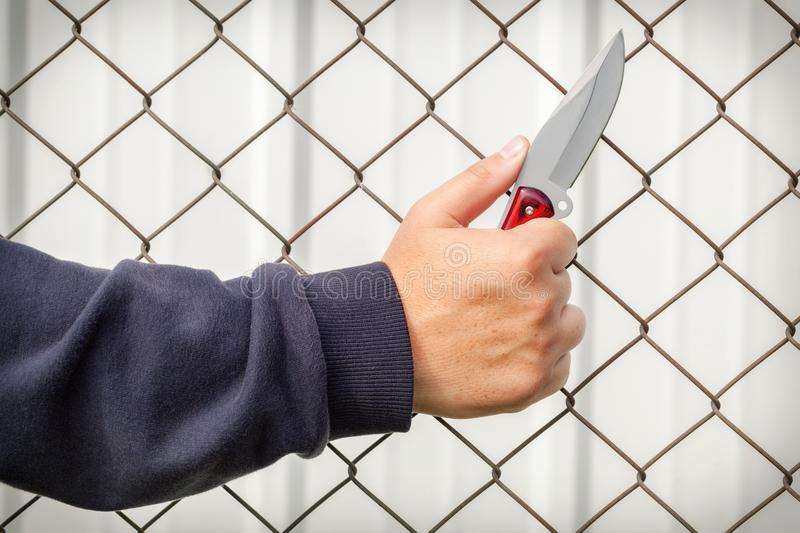weapon: (492, 26, 629, 235)
